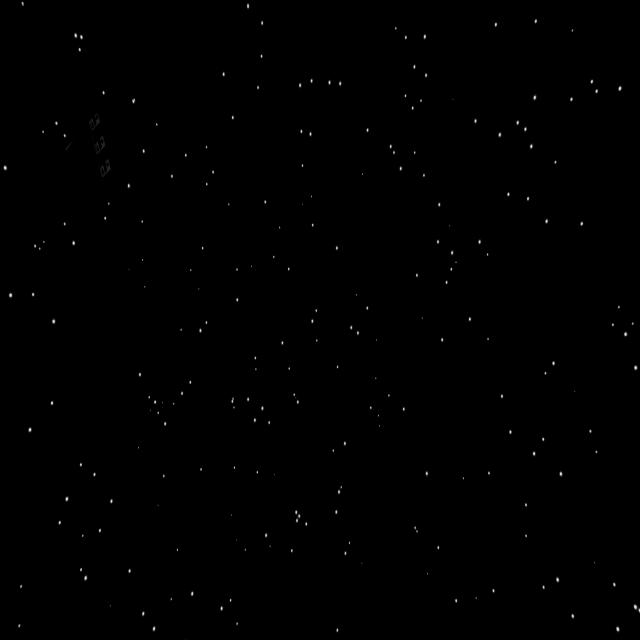satellite: (64, 94, 149, 194)
